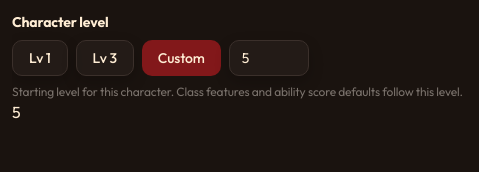
Test case: CharacterLevelSelector › updates level from custom numeric input
This screenshot has width=479, height=172.
Replace the text in the number field named "Custom level" with "7": (269, 58) [229,40,309,76]
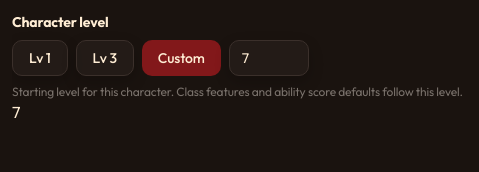
Expected: the text with test id "level-output" reads "7", [12,102,20,122]
